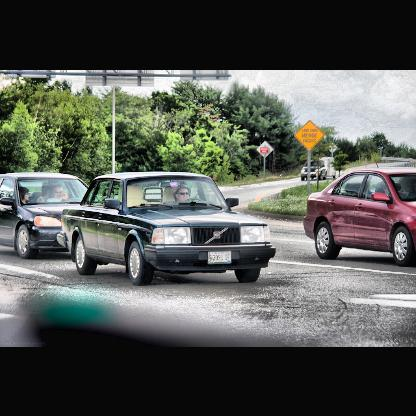Volvo 240 Sedan 1993: (63, 173, 278, 283)
